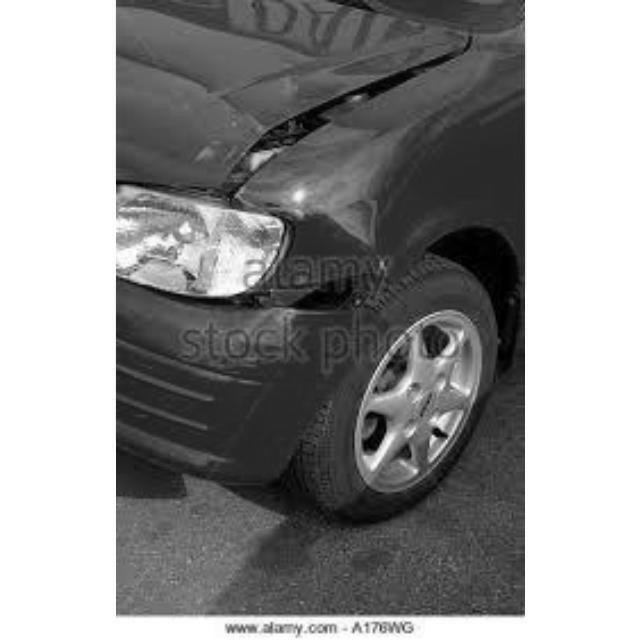bonnet-dent: (120, 1, 418, 160)
